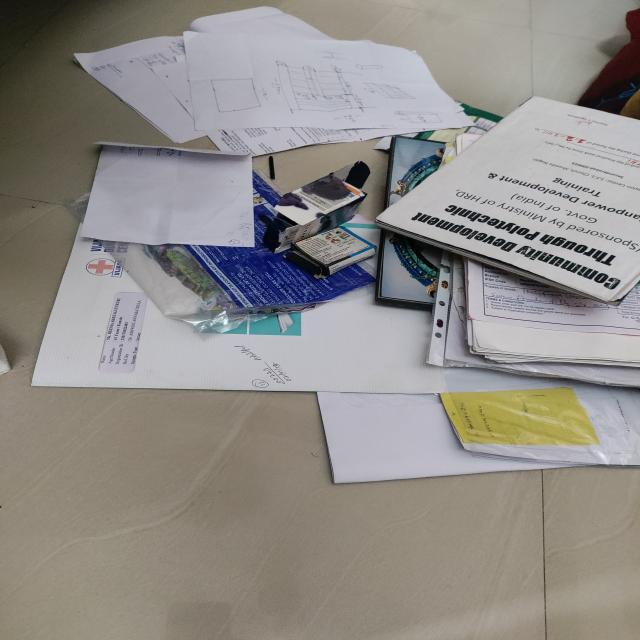paper: (52, 133, 397, 414), (414, 98, 640, 389), (70, 0, 484, 140)
